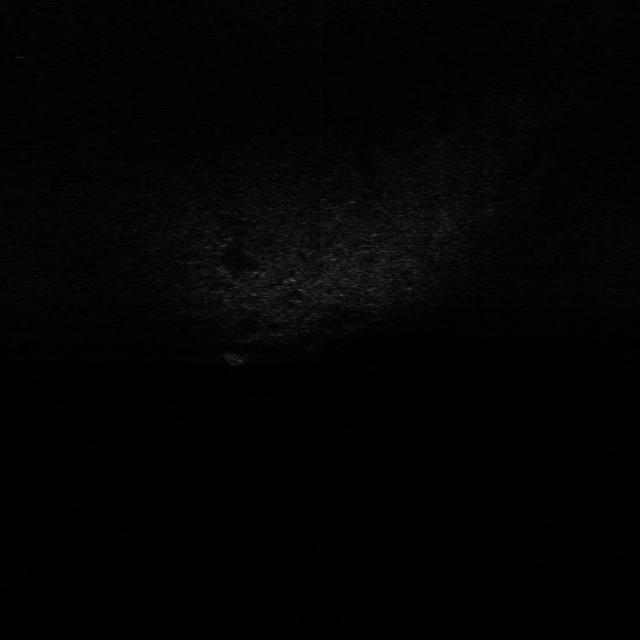cube: (218, 345, 253, 370)
